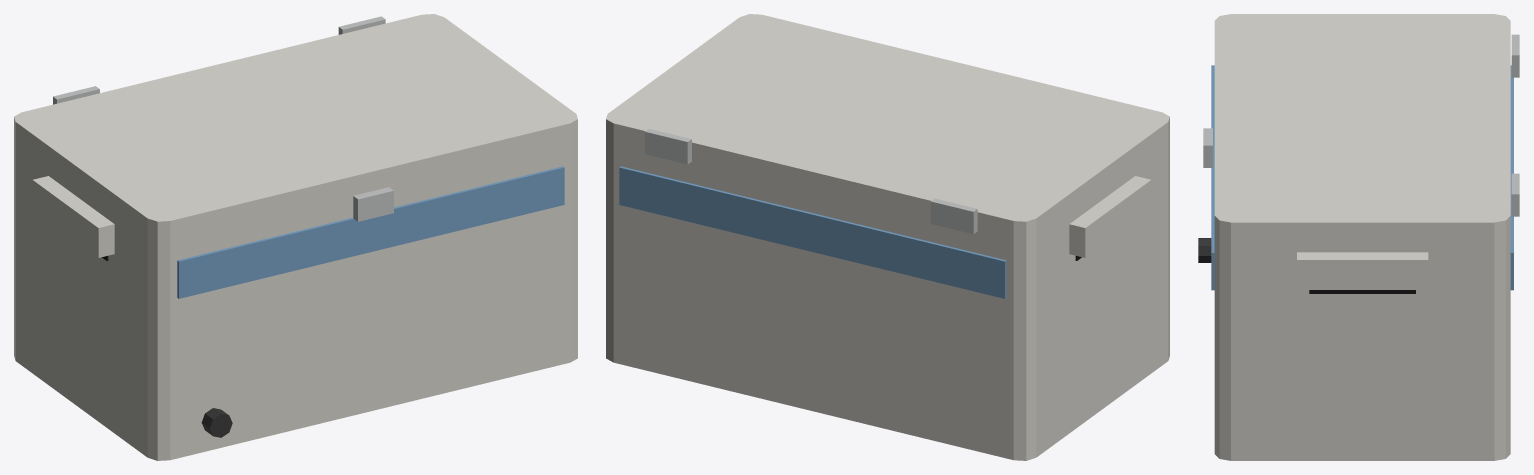
File: cooler_body.glb
3 renders of one model, left to right at view 1: azimuth 30°, elevation 25°; view 2: azimuth 150°, elevation 25°; view 3: azimuth 270°, elevation 25°, orthographic.
Parts seen in each view (by area): view 1: CoolerBody; view 2: CoolerBody; view 3: CoolerBody.
Boxes of the visible parts, left/top/right/bottom form: CoolerBody: left=14, top=14, right=577, bottom=460; CoolerBody: left=606, top=14, right=1169, bottom=460; CoolerBody: left=1198, top=14, right=1519, bottom=460.
Size of the model in its own units: 0.645 by 0.325 by 0.391.
